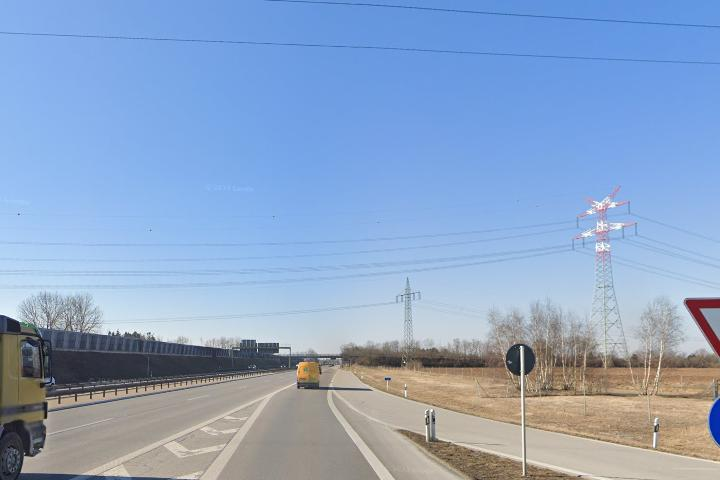vehicle: (1, 301, 56, 480), (294, 357, 324, 394)
